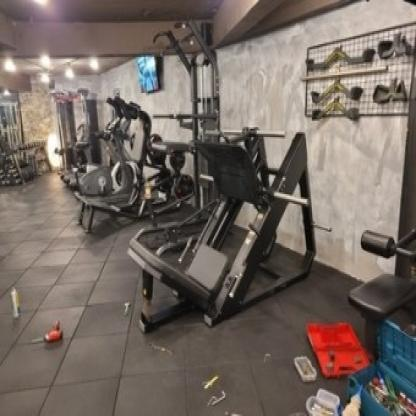leg press: (119, 90, 337, 362)
